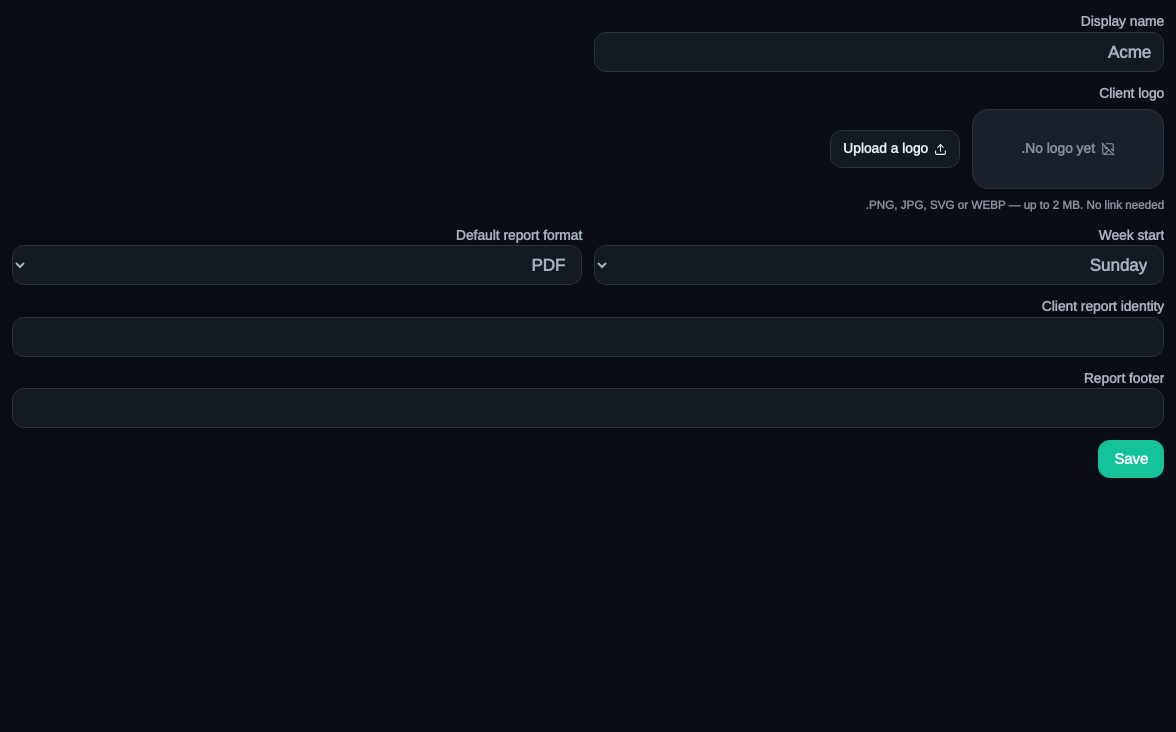
Scenario: the client settings form › clears the refusal when the next attempt starts
Click the button "Save". click: (1131, 459)
box: left=1098, top=440, right=1164, bottom=478
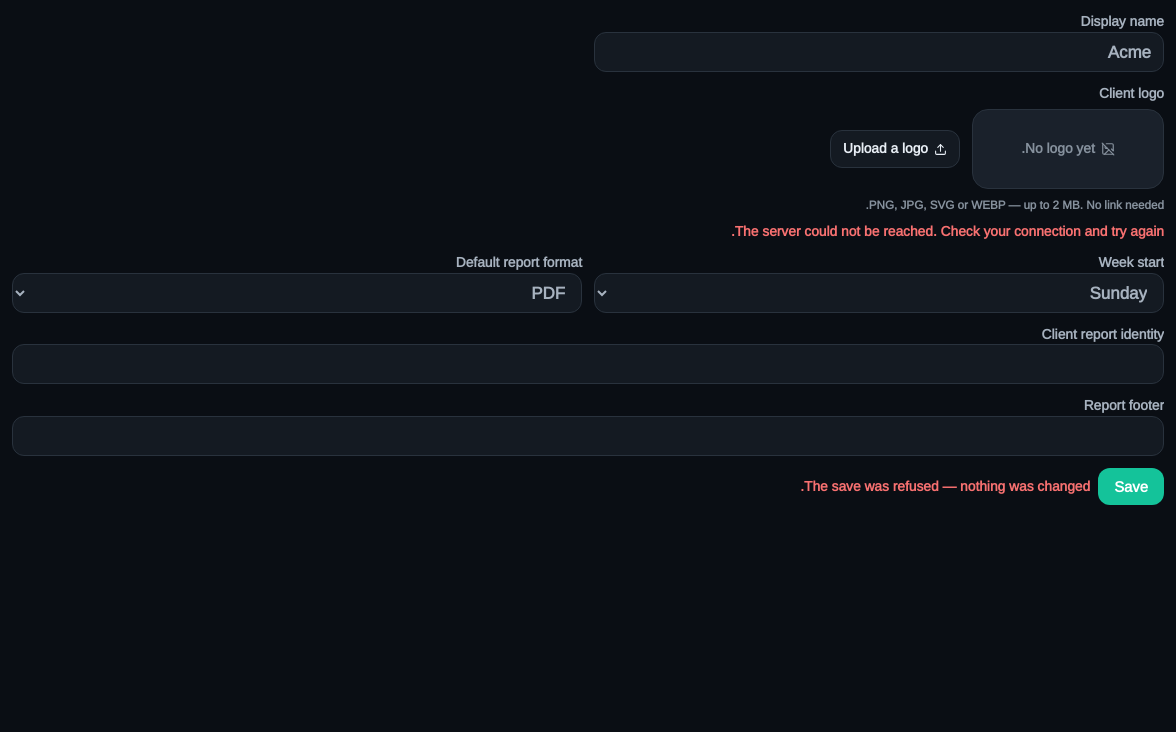
expect the text "The save was refused — nothing was changed." is shown: met, box left=800, top=477, right=1090, bottom=496
Click the button "Save". click: (1131, 486)
box: left=1098, top=468, right=1164, bottom=505
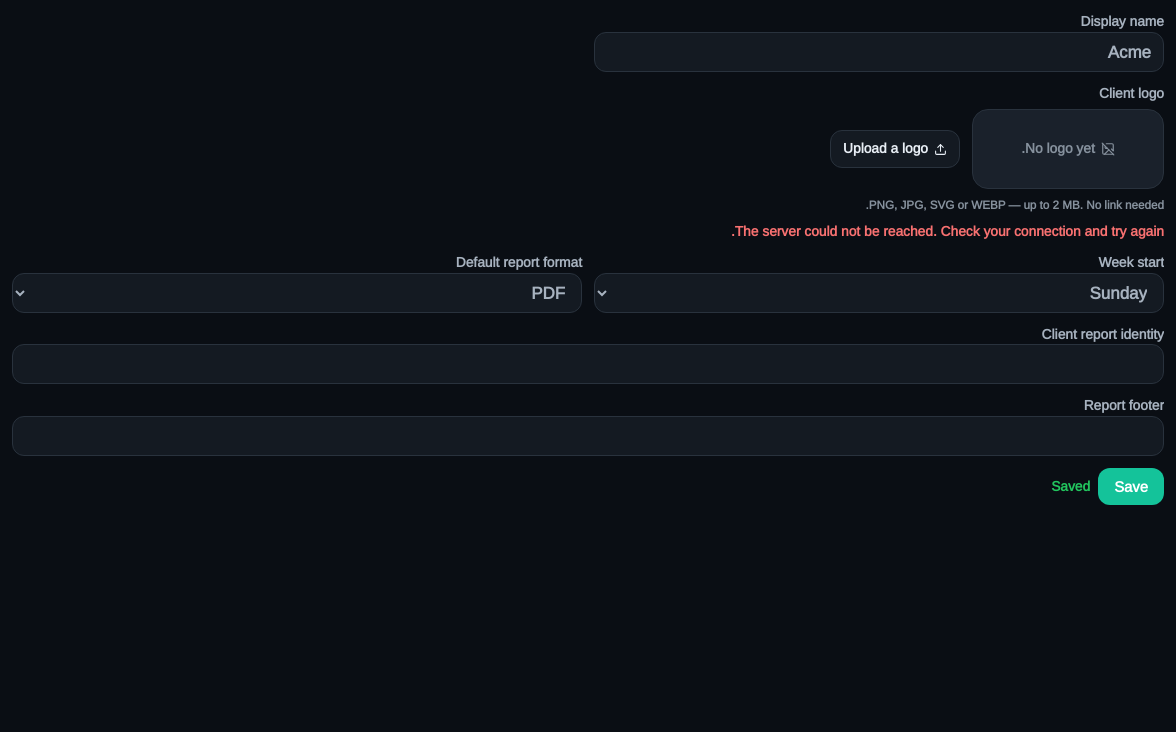
expect the text with test id "client-settings-failed" is gone: met
